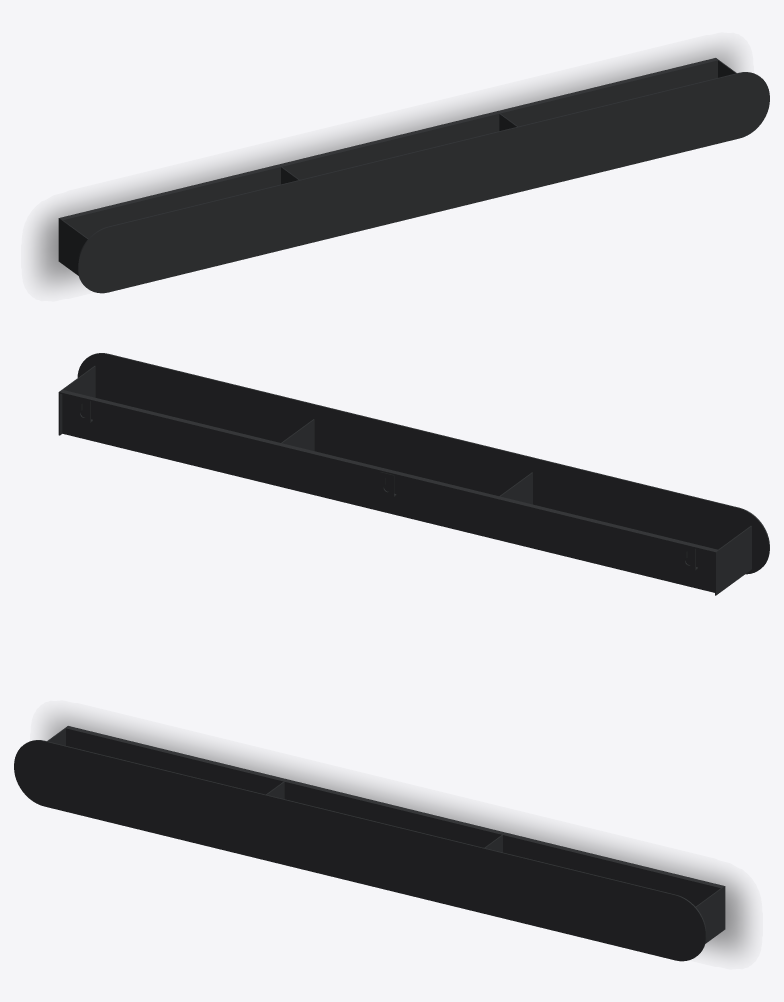
The model's file is round-mono.98e93c63a1.ar.glb.
The picture shows the model from 3 angles, top to bottom: view 1: azimuth 30°, elevation 25°; view 2: azimuth 150°, elevation 25°; view 3: azimuth 330°, elevation 25°; orthographic projection.
Visible parts, largest first — view 1: NAUO1, object 2; view 2: NAUO1; view 3: NAUO1, object 2.
Boxes of the visible parts, <box> form: NAUO1: <box>58,58,769,293</box>; object 2: <box>35,48,739,285</box>; NAUO1: <box>58,353,769,595</box>; NAUO1: <box>14,726,725,961</box>; object 2: <box>44,716,748,953</box>.
Size of the model in its own units: 1.08 by 0.17 by 0.0926.
2 materials, 1 textured.
